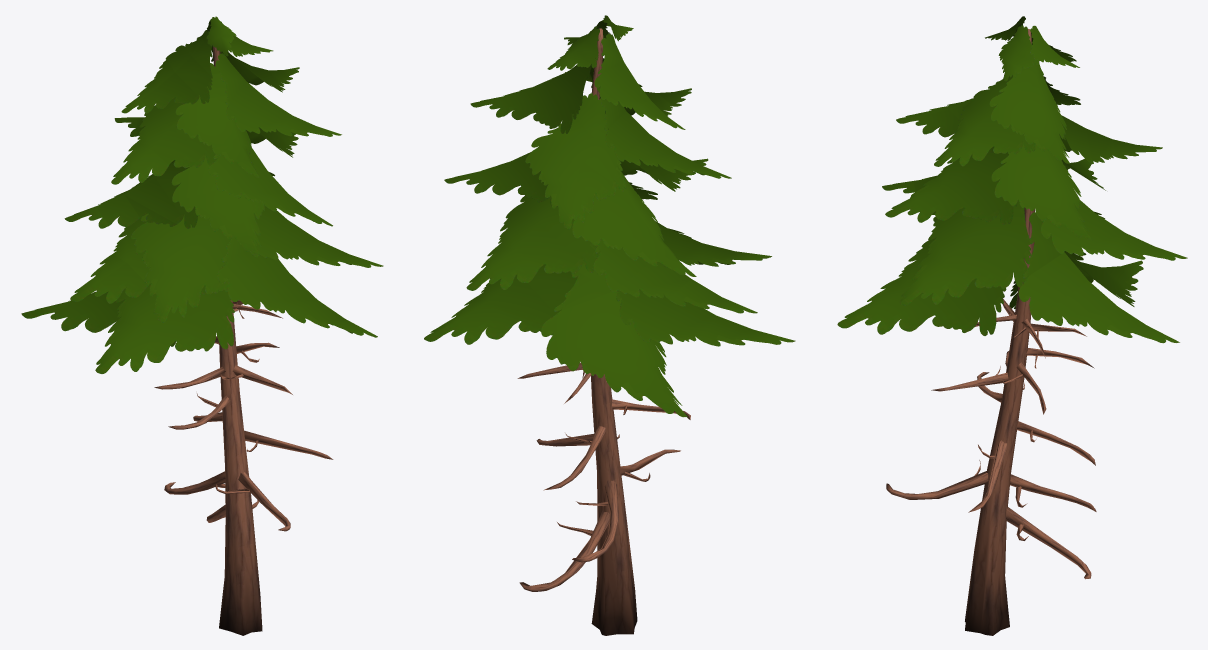
File: pine_3.glb
The picture shows the model from 3 angles, left to right: view 1: azimuth 30°, elevation 25°; view 2: azimuth 150°, elevation 25°; view 3: azimuth 270°, elevation 25°; orthographic projection. The views are drawn at different scales.
Parts seen in each view (by area): view 1: Pine_3; view 2: Pine_3; view 3: Pine_3.
Part boxes in pixels (<box>): Pine_3: <box>21,16,383,635</box>; Pine_3: <box>424,15,795,635</box>; Pine_3: <box>837,16,1187,635</box>.
Bounding box in the file's own units: 3.61 × 7.39 × 4.
2 materials, 2 textured.
